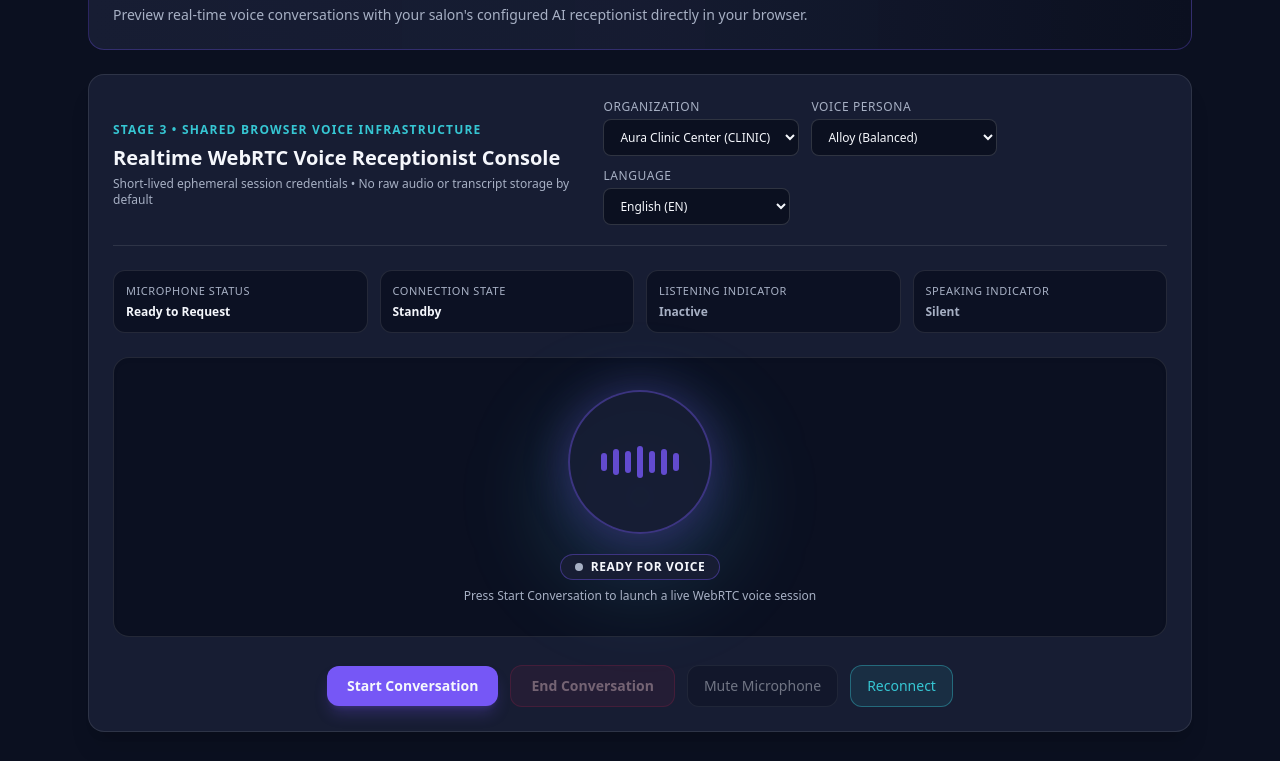
Scenario: Stage 3 Shared Browser Voice Infrastructure › 9. surfaces AI response failures as Response Error instead of silently showing Silent
(page scrolled)
Click the button with test id "start-conversation-button". click: (413, 686)
box: [327,666,498,706]
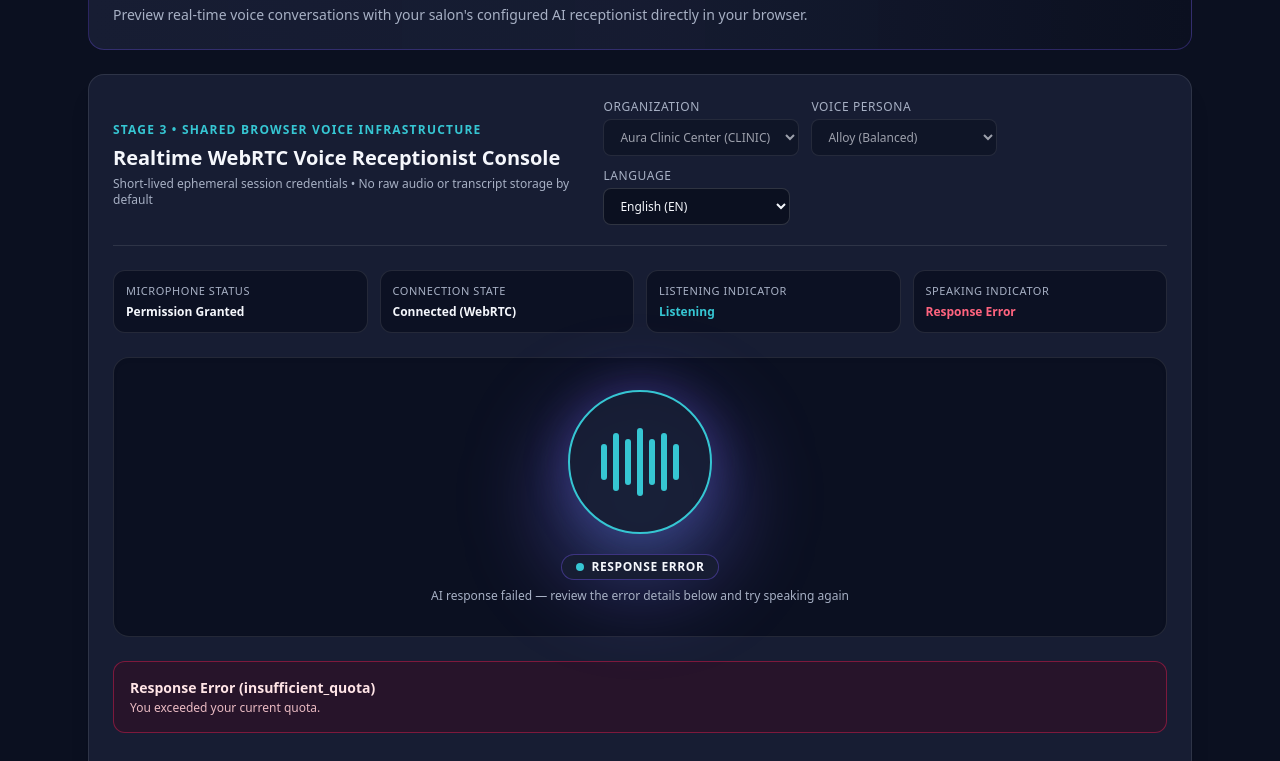
Expected: the element with test id "speaking-indicator" shows "Response Error", [926,302,1016,320]
Expected: the message with test id "voice-response-error-banner" shows "You exceeded your current quota.", [130,698,320,716]
